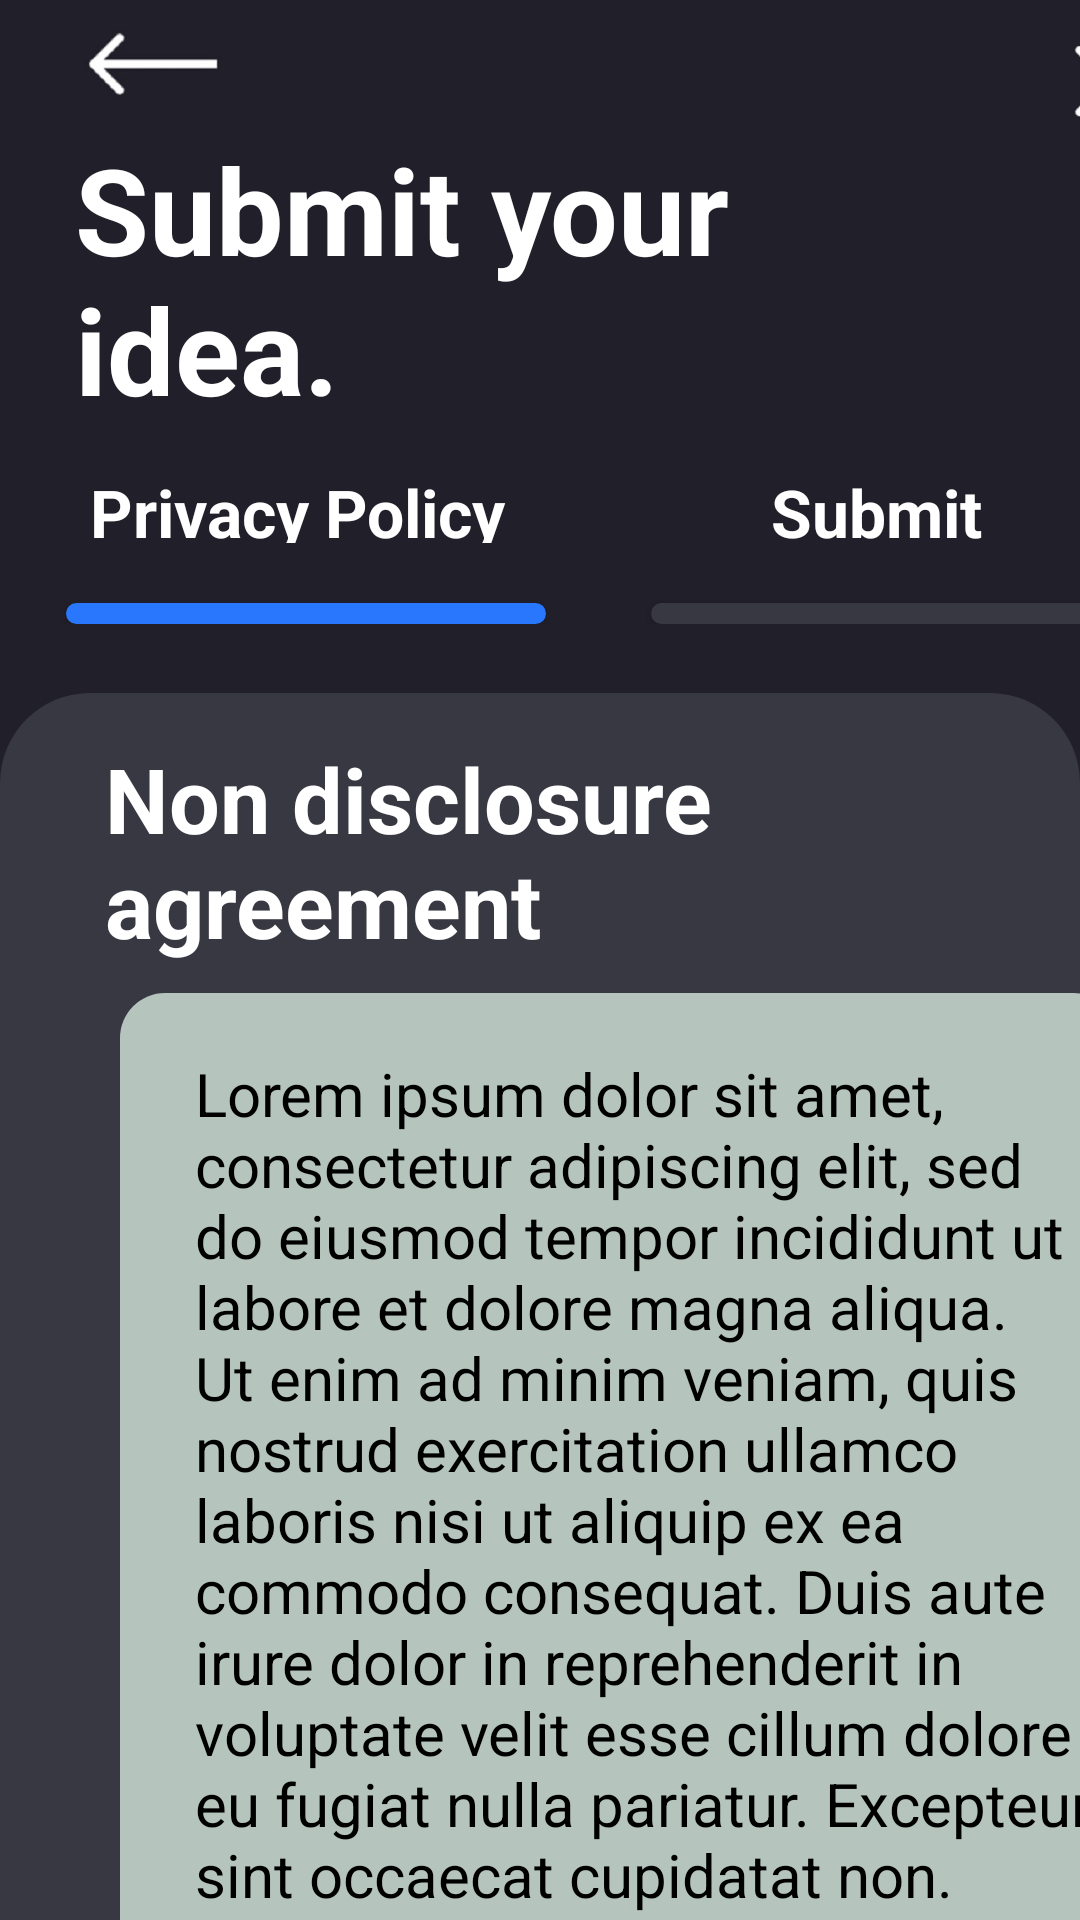

Point at icon controls on the screen. Image size 1080 x 1920, points as (x=x, y=y).
arrow: (x=153, y=64)
